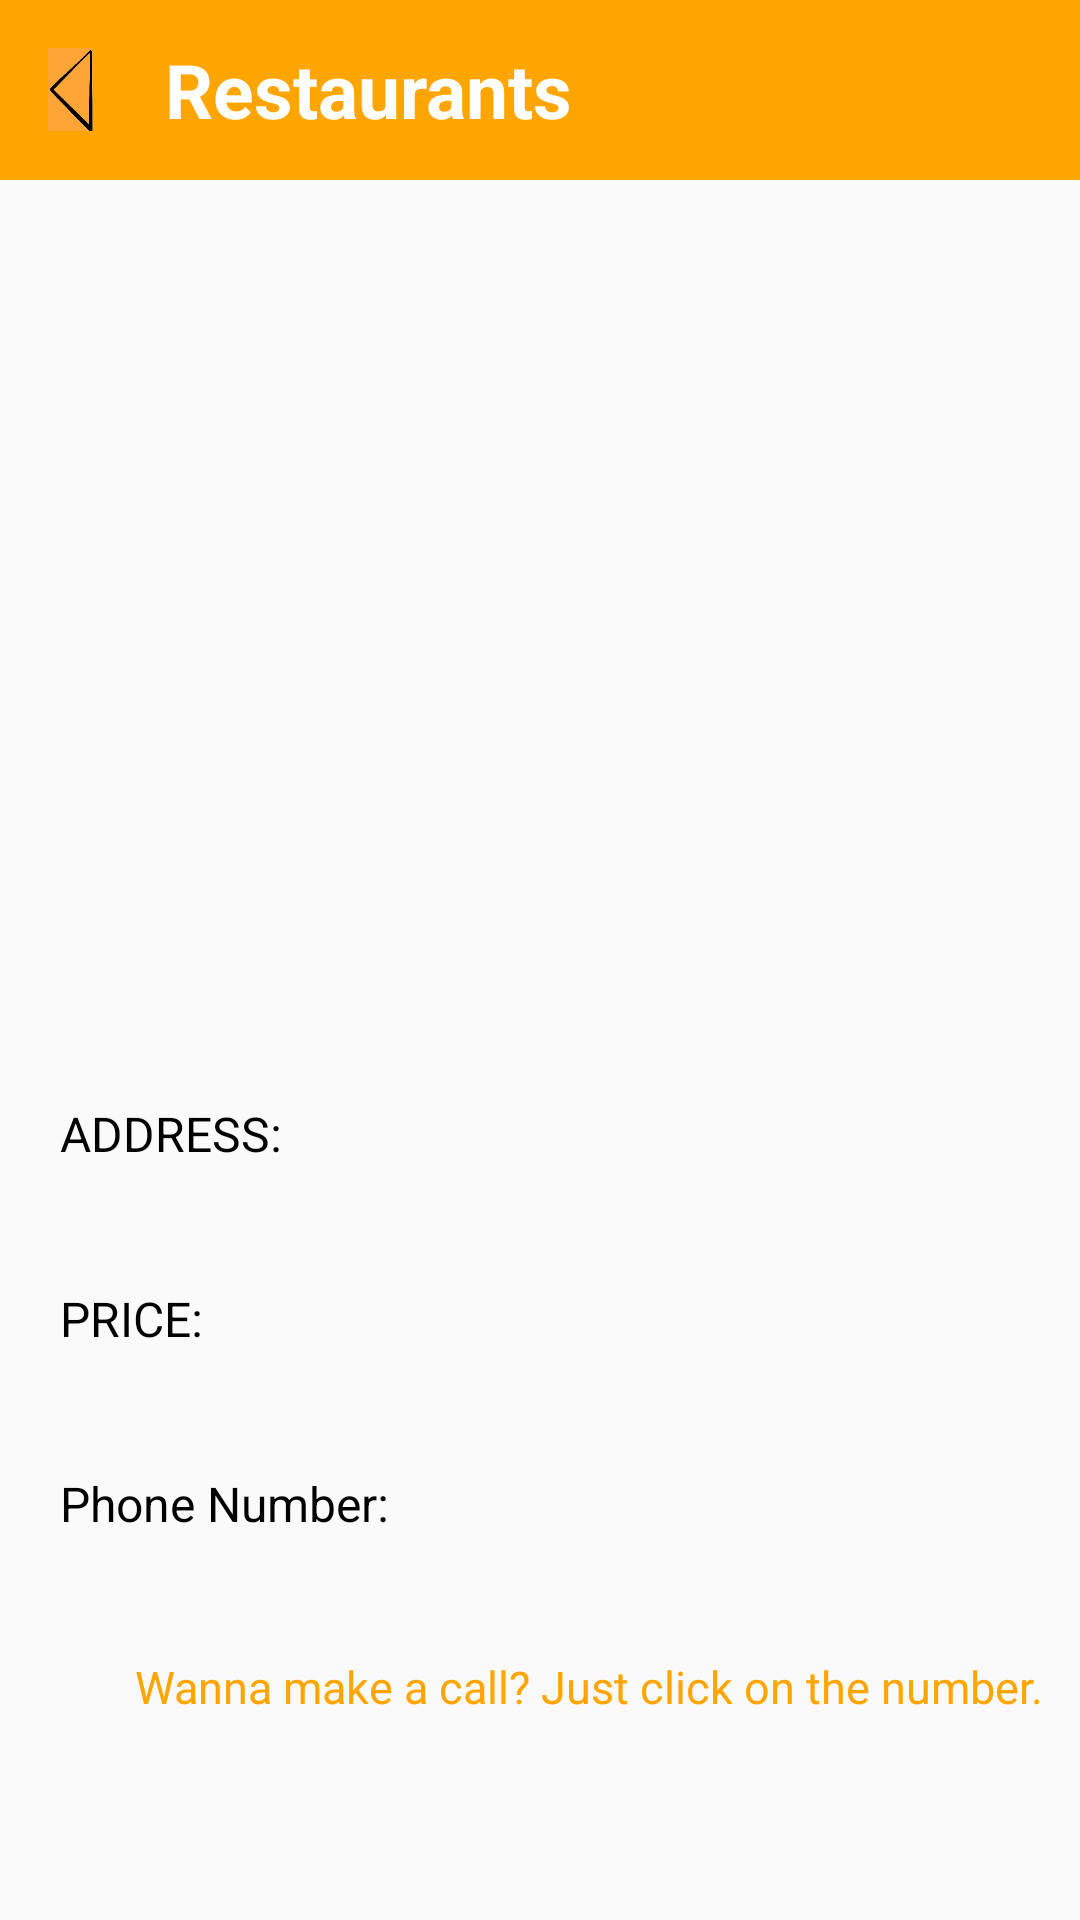

Locate icon controls on the screen. Image size 1080w x 1920h, boxes as (x1, y1, x2, y2).
backarrow: (48, 48, 93, 131)
